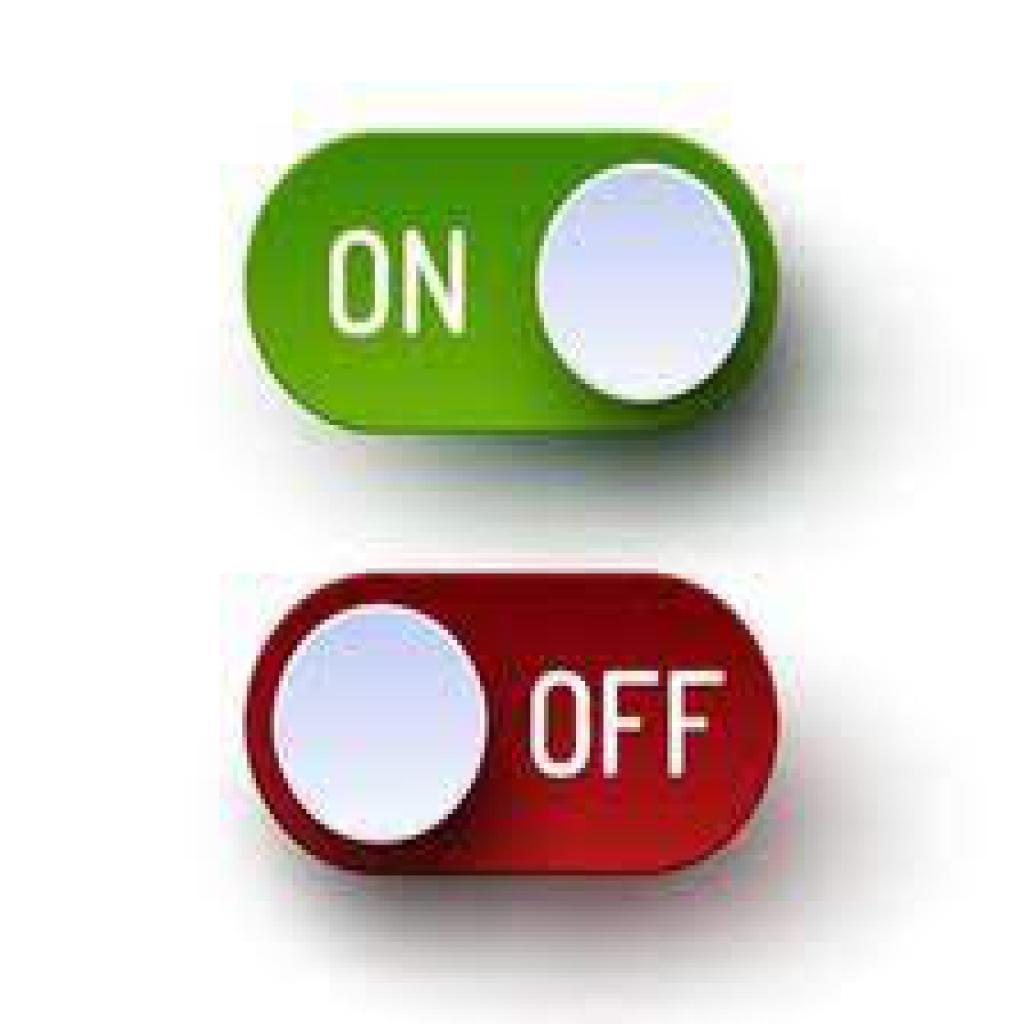switch: (246, 572, 782, 879), (245, 132, 781, 436)
